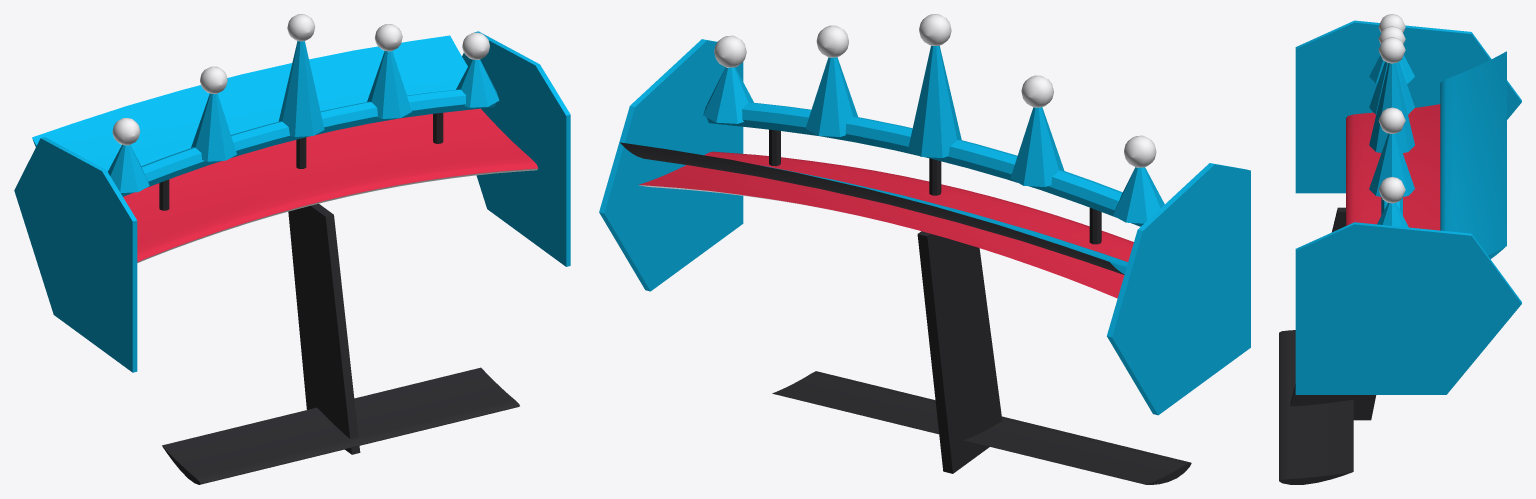
File: royal.glb
3 views of the same model, side by side, from view 1: azimuth 30°, elevation 25°; view 2: azimuth 150°, elevation 25°; view 3: azimuth 270°, elevation 25° (orthographic). The views are drawn at different scales.
Visible parts, largest first — view 1: RearWing_royal, DRSFlap_royal; view 2: RearWing_royal, DRSFlap_royal; view 3: RearWing_royal, DRSFlap_royal.
Part boxes in pixels (x1,y1,x2,y2): RearWing_royal: [14, 14, 570, 484]; DRSFlap_royal: [32, 35, 467, 171]; RearWing_royal: [599, 14, 1250, 484]; DRSFlap_royal: [620, 142, 1127, 274]; RearWing_royal: [1279, 14, 1521, 484]; DRSFlap_royal: [1440, 51, 1506, 259].
Size of the model in its own units: 1.15 by 1 by 0.58.
